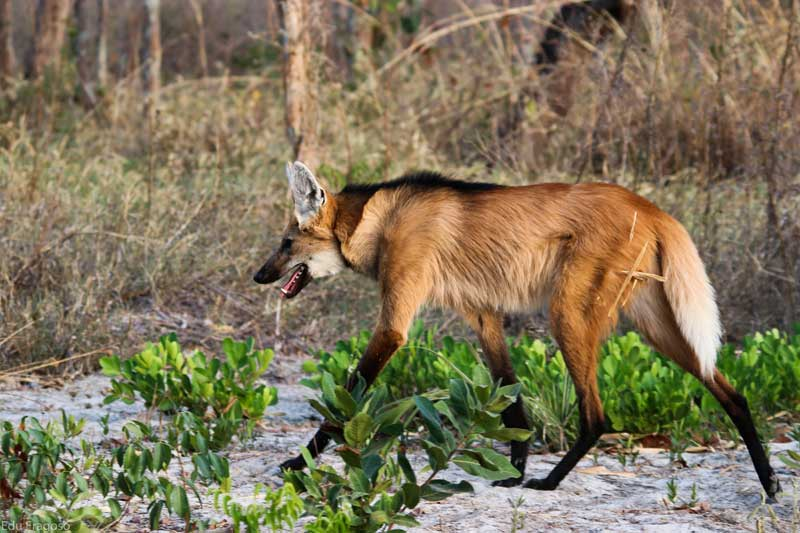LoboGuara: (243, 150, 789, 509)
